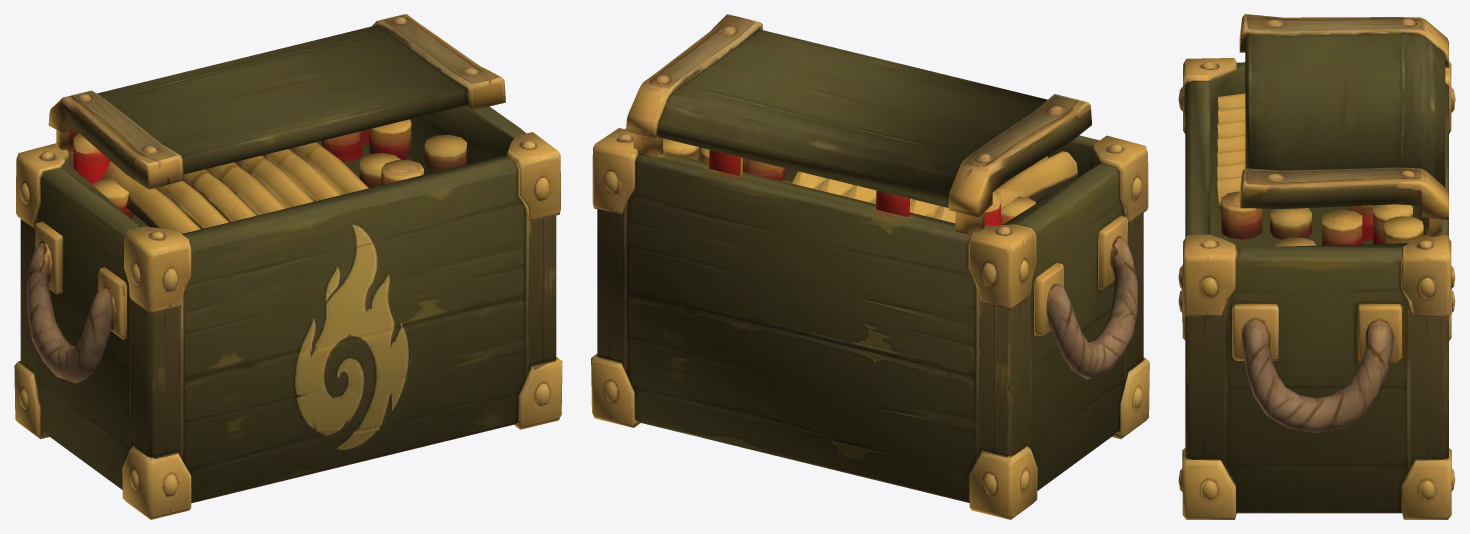
File: SM_Prop_AmmoCrate.glb
3 renders of one model, left to right at view 1: azimuth 30°, elevation 25°; view 2: azimuth 150°, elevation 25°; view 3: azimuth 270°, elevation 25°, orthographic. The views are drawn at different scales.
Parts seen in each view (by area): view 1: SM_Prop_AmmoCrate_LOD0; view 2: SM_Prop_AmmoCrate_LOD0; view 3: SM_Prop_AmmoCrate_LOD0.
Part boxes in pixels (<box>): SM_Prop_AmmoCrate_LOD0: <box>14,14,562,519</box>; SM_Prop_AmmoCrate_LOD0: <box>591,14,1149,519</box>; SM_Prop_AmmoCrate_LOD0: <box>1178,14,1455,519</box>.
Bounding box in the file's own units: 0.9663 × 0.65 × 0.4999.
Materials: 1 (1 with a texture image).
